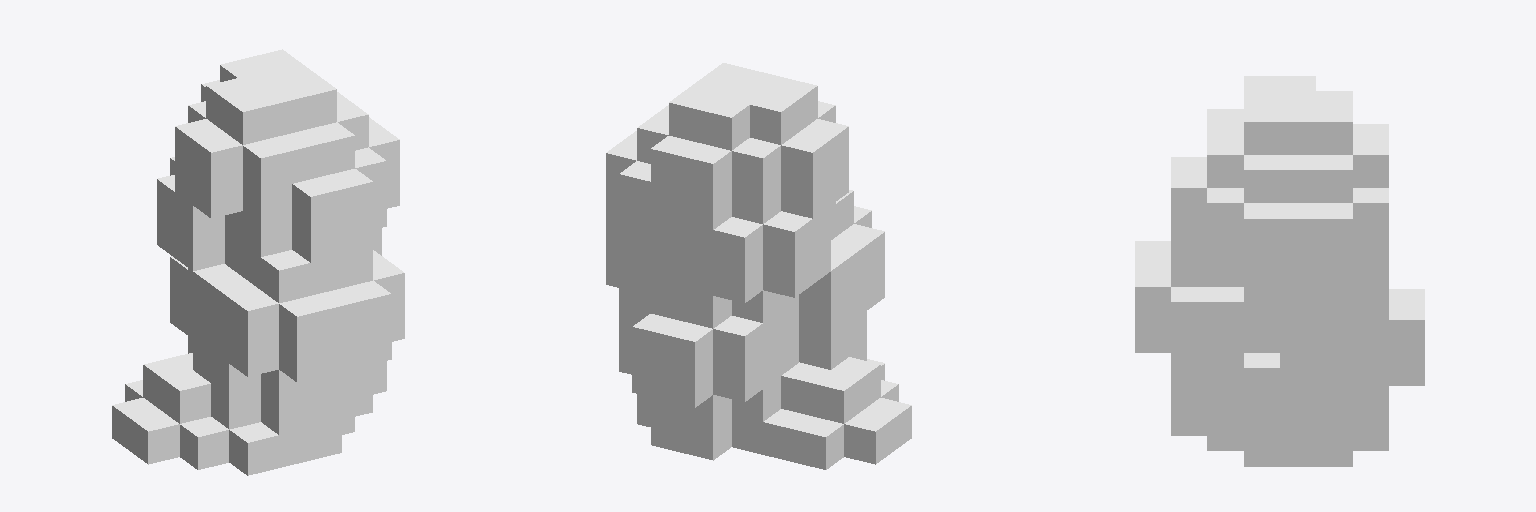
The model's file is Rock5.obj.
3 renders of one model, left to right at view 1: azimuth 30°, elevation 25°; view 2: azimuth 150°, elevation 25°; view 3: azimuth 270°, elevation 25°, orthographic.
Parts seen in each view (by area): view 1: Rock5; view 2: Rock5; view 3: Rock5.
Boxes of the visible parts, box(x1,y1,x2,y2) form: Rock5: box(112, 49, 404, 475); Rock5: box(606, 63, 911, 469); Rock5: box(1135, 76, 1424, 466).
Bounding box in the file's own units: 8 × 10 × 8.